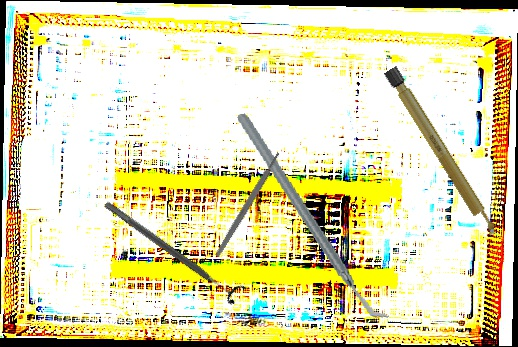Chopper: (236, 94, 391, 341)
Fixation Ring: (98, 193, 247, 308)
Scalpel Handle: (383, 65, 500, 240), (214, 151, 282, 258)
